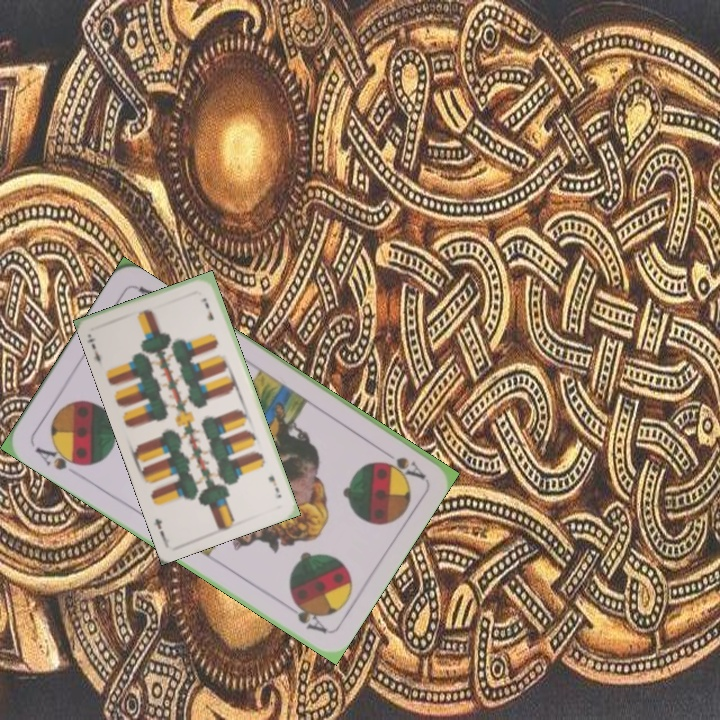E7: (83, 334, 105, 369), (264, 471, 284, 501)
SA: (31, 441, 88, 473), (378, 452, 427, 482)
